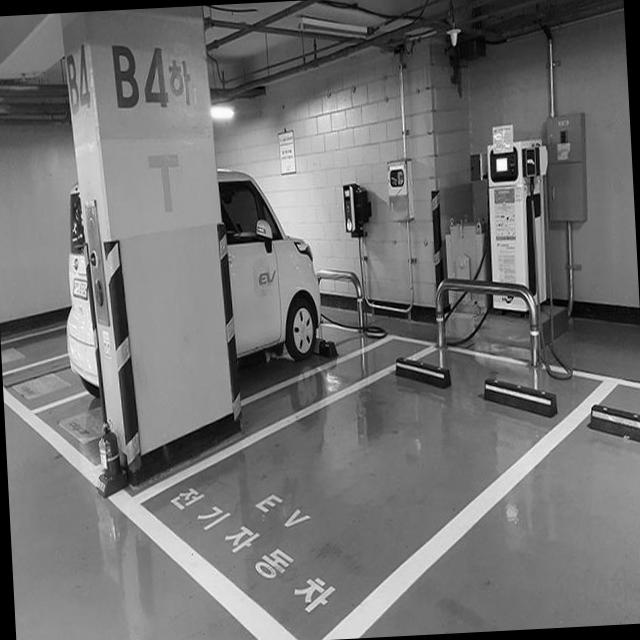free: (144, 348, 512, 556)
